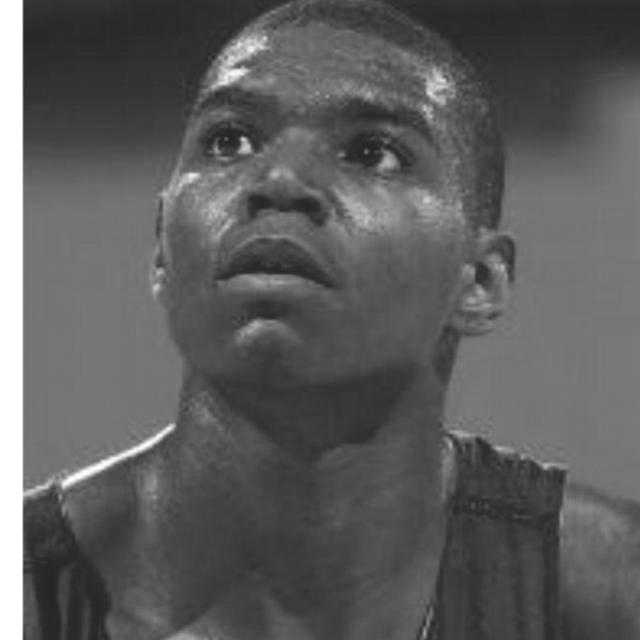real: (146, 20, 523, 392)
